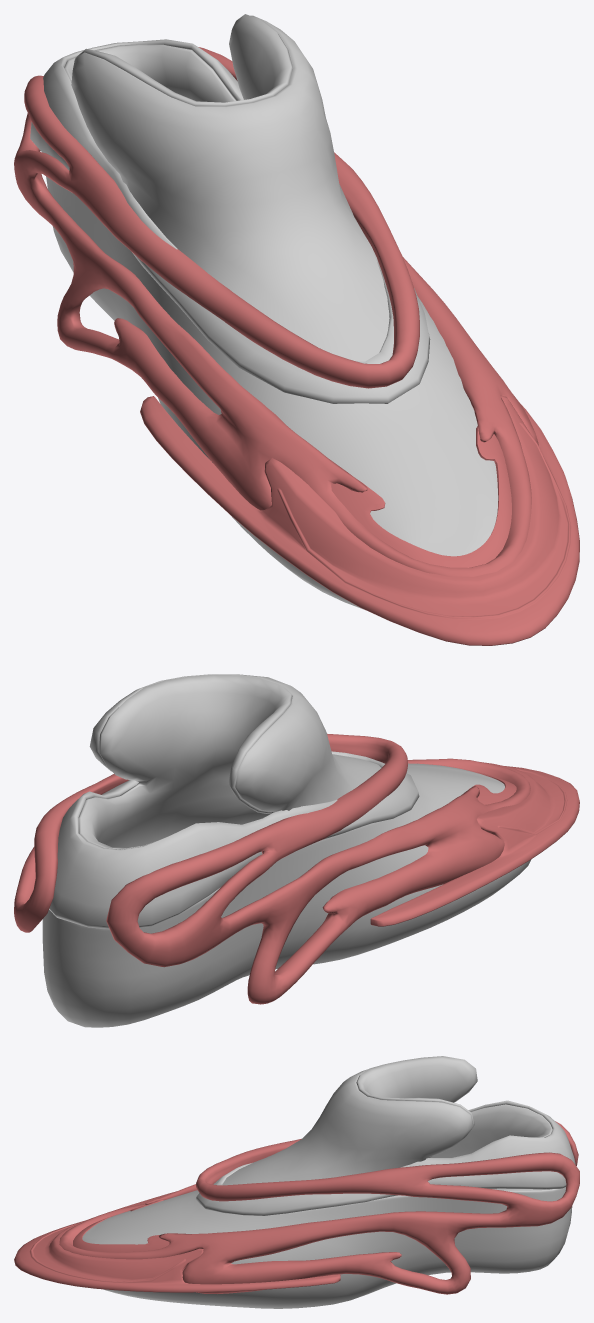
Rendered from Exporter_test.glb.
The picture shows the model from 3 angles, top to bottom: view 1: azimuth 30°, elevation 25°; view 2: azimuth 150°, elevation 25°; view 3: azimuth 270°, elevation 25°; orthographic projection. The views are drawn at different scales.
Visible parts, largest first — view 1: part01, part02; view 2: part01, part02; view 3: part01, part02.
Boxes of the visible parts, x1,y1,x2,y2 form: part01: (30, 14, 498, 609); part02: (14, 47, 579, 645); part01: (42, 674, 531, 1027); part02: (14, 733, 579, 1004); part01: (82, 1056, 575, 1308); part02: (14, 1121, 579, 1294).
Bounding box in the file's own units: 0.351 × 0.3749 × 0.9054.
